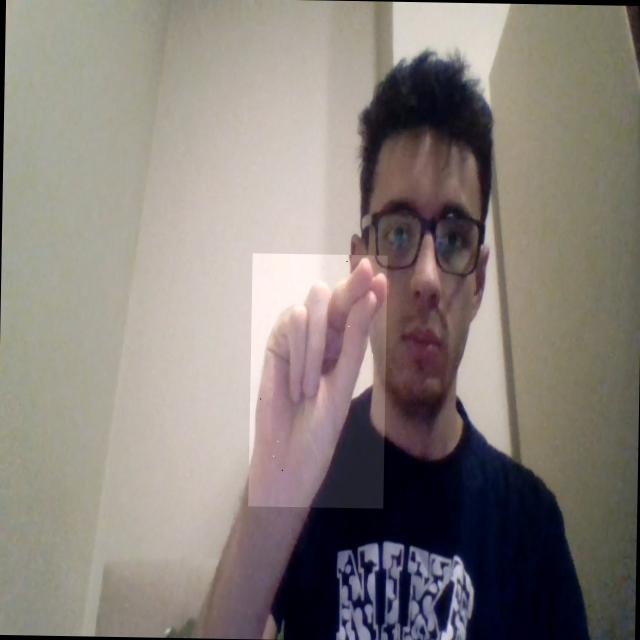no: (248, 253, 388, 508)
